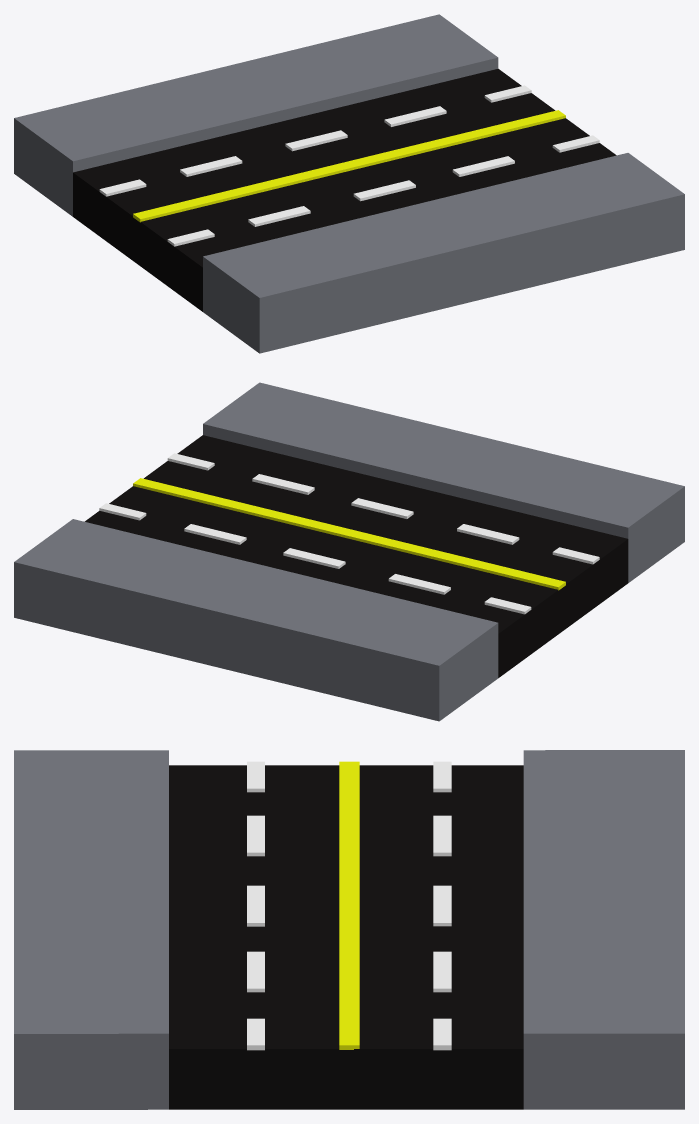
Rendered from Street_Straight_4Lane.fbx.
3 renders of one model, top to bottom at view 1: azimuth 30°, elevation 25°; view 2: azimuth 150°, elevation 25°; view 3: azimuth 270°, elevation 25°, orthographic. The views are drawn at different scales.
Visible parts, largest first — view 1: Street_Straight; view 2: Street_Straight; view 3: Street_Straight.
Boxes of the visible parts, left/top/right/bottom form: Street_Straight: left=14, top=14, right=684, bottom=353; Street_Straight: left=14, top=382, right=684, bottom=721; Street_Straight: left=14, top=750, right=684, bottom=1109.
Bounding box in the file's own units: 39.38 × 4.93 × 39.37.
